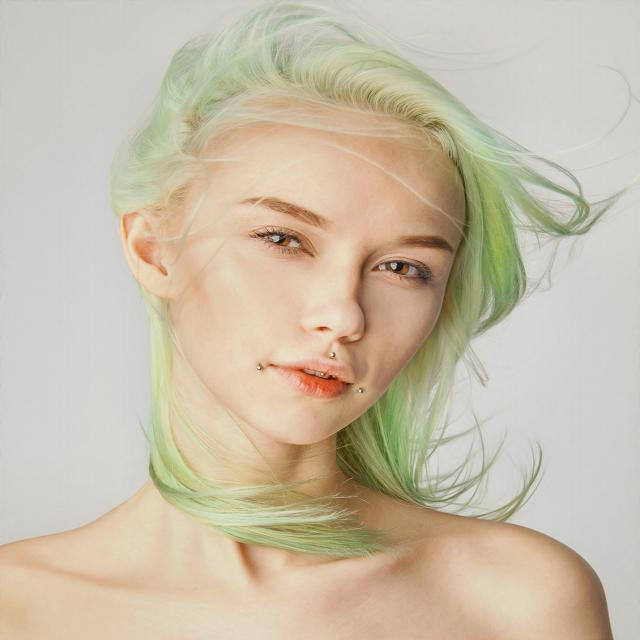earlobe: (144, 266, 174, 302)
eye: (249, 224, 317, 260), (369, 256, 436, 282)
nose: (301, 324, 364, 354)
wholeear: (118, 206, 174, 302)
